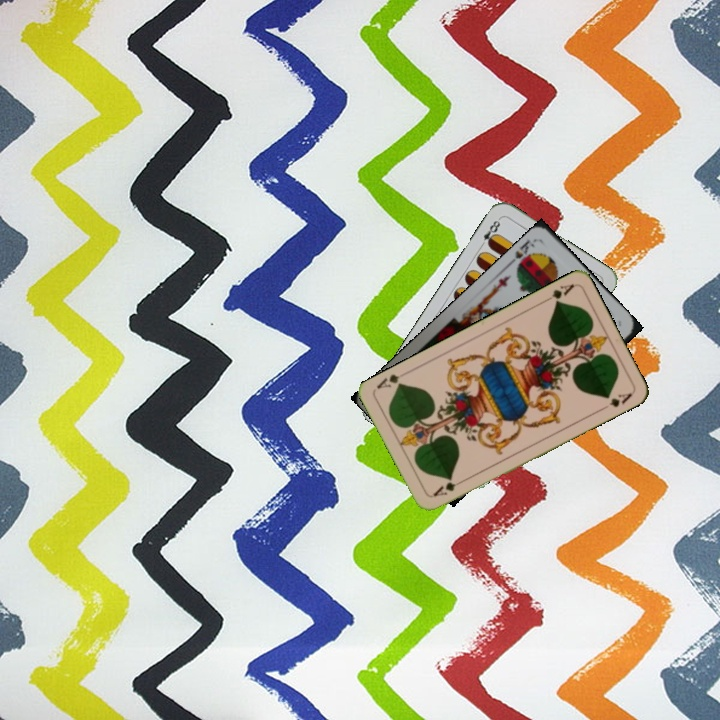E8: (476, 214, 503, 250)
GA: (539, 280, 576, 306), (429, 476, 466, 499)
SK: (505, 236, 539, 273)
